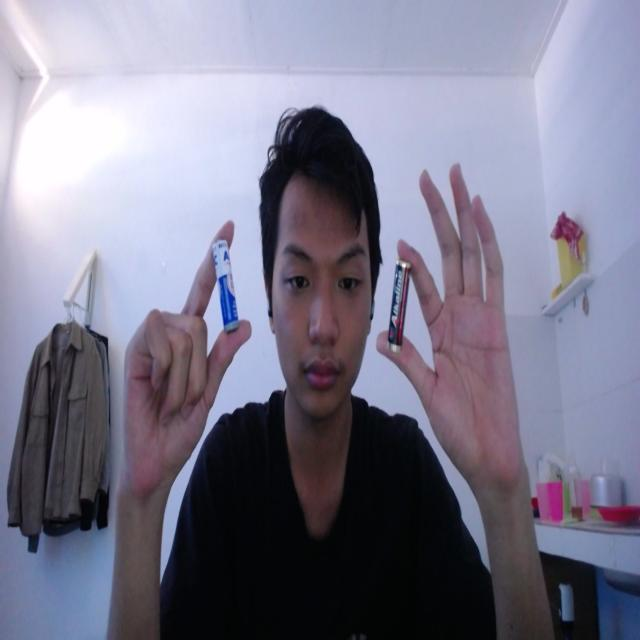AA: (208, 226, 244, 338), (386, 250, 412, 357)
